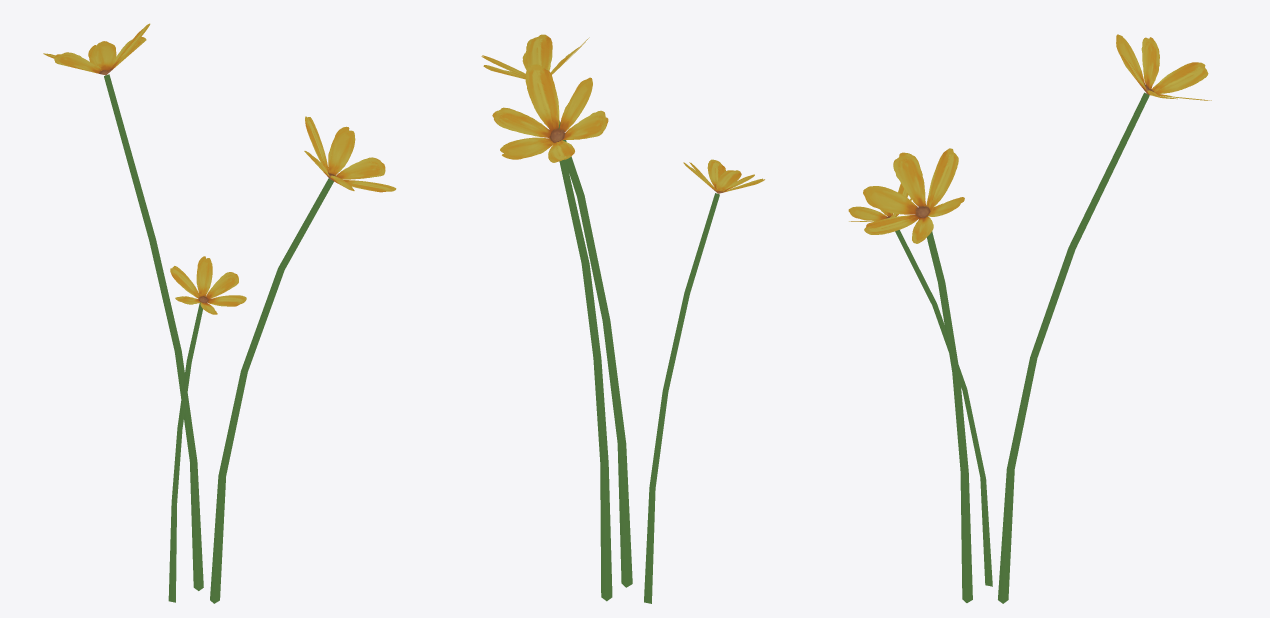
File: SM_Flower_04_01.fbx
The picture shows the model from 3 angles, left to right: view 1: azimuth 30°, elevation 25°; view 2: azimuth 150°, elevation 25°; view 3: azimuth 270°, elevation 25°; orthographic projection. The views are drawn at different scales.
Visible parts, largest first — view 1: SM_Flower_04_01_LOD0; view 2: SM_Flower_04_01_LOD0; view 3: SM_Flower_04_01_LOD0.
Boxes of the visible parts, x1,y1,x2,y2 form: SM_Flower_04_01_LOD0: [43, 23, 396, 603]; SM_Flower_04_01_LOD0: [481, 34, 764, 603]; SM_Flower_04_01_LOD0: [848, 34, 1211, 603].
Size of what is drawn, in the model's own units: 35.21 by 63.8 by 44.12.
